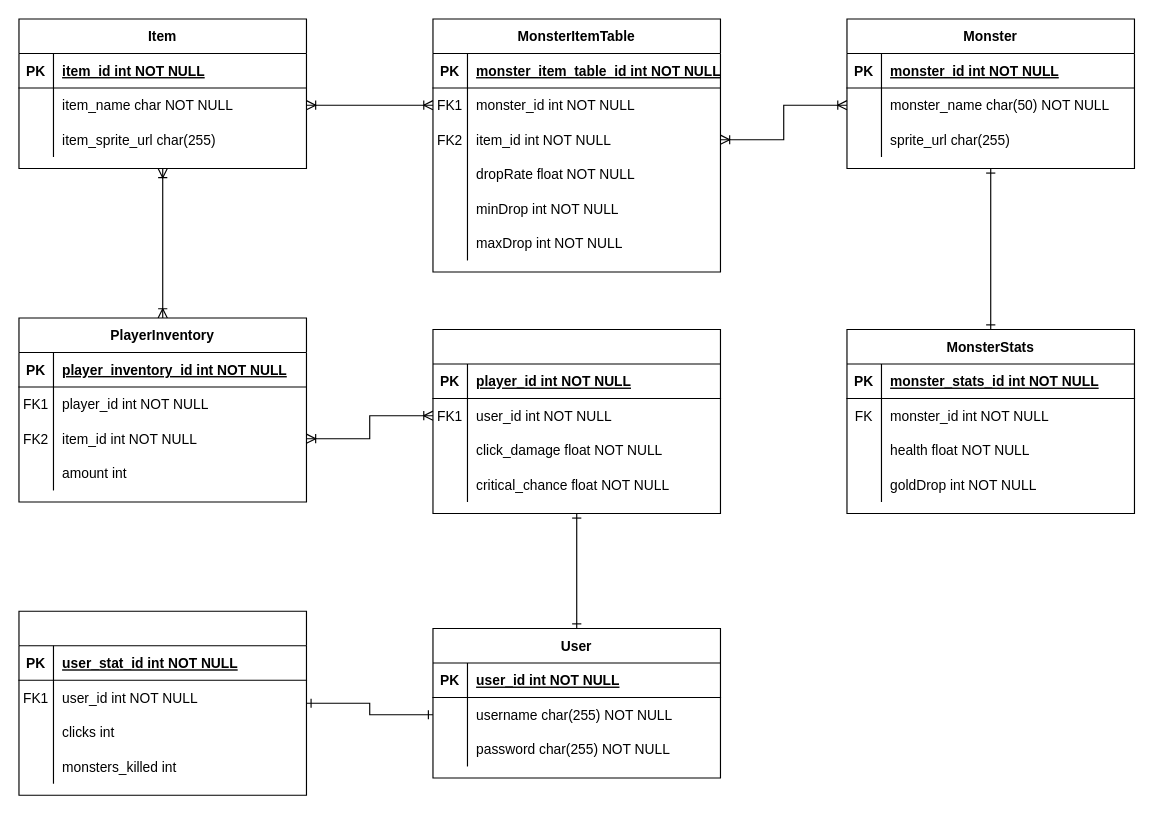
The diagram is 1153 pixels wide and 814 high, and some of its shapes have lost their labels. Here are the shapes that lost their labels. From the top down, the box of each, then its label:
(432, 328, 720, 513): PlayerStats
(18, 610, 306, 795): UserStatistics
